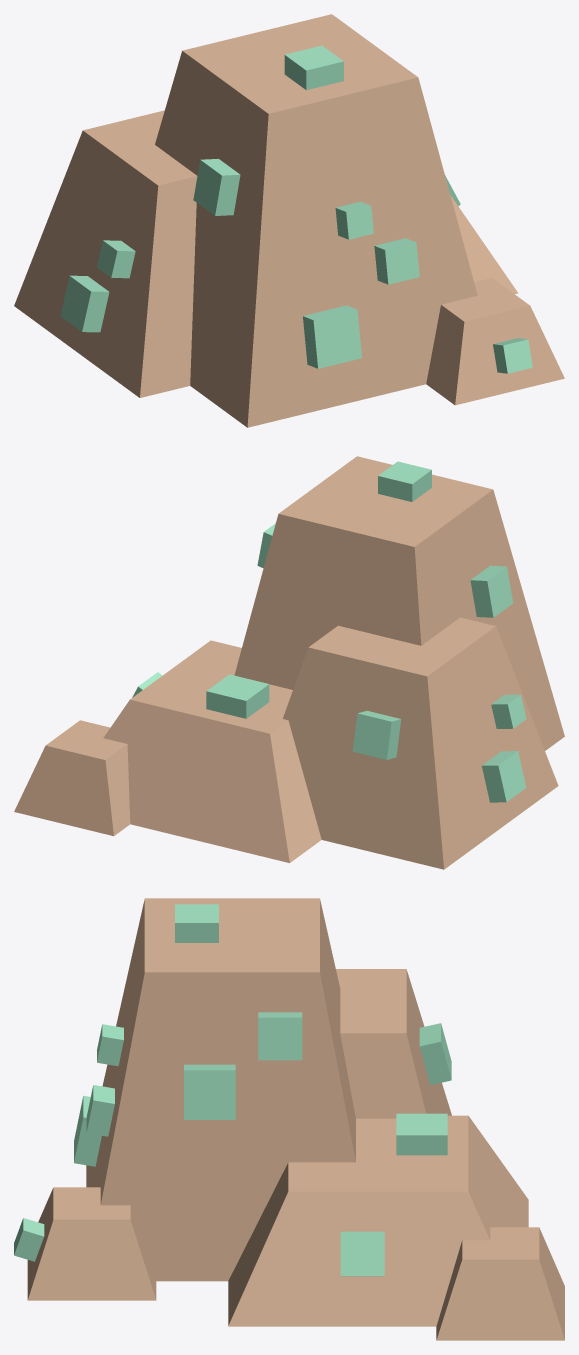
Rendered from rocksSmallOre.glb.
The picture shows the model from 3 angles, top to bottom: view 1: azimuth 30°, elevation 25°; view 2: azimuth 150°, elevation 25°; view 3: azimuth 270°, elevation 25°; orthographic projection. The views are drawn at different scales.
Parts seen in each view (by area): view 1: rocksSmallOre; view 2: rocksSmallOre; view 3: rocksSmallOre.
Part boxes in pixels (<box>): rocksSmallOre: <box>14,14,564,427</box>; rocksSmallOre: <box>14,456,564,869</box>; rocksSmallOre: <box>14,898,564,1340</box>.
Size of the model in its own units: 6.86 by 4.57 by 7.5.
